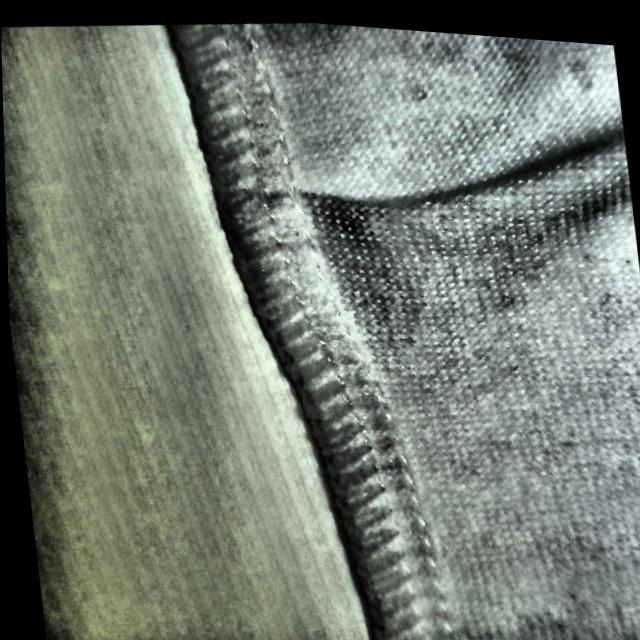seam: (200, 105, 545, 312)
